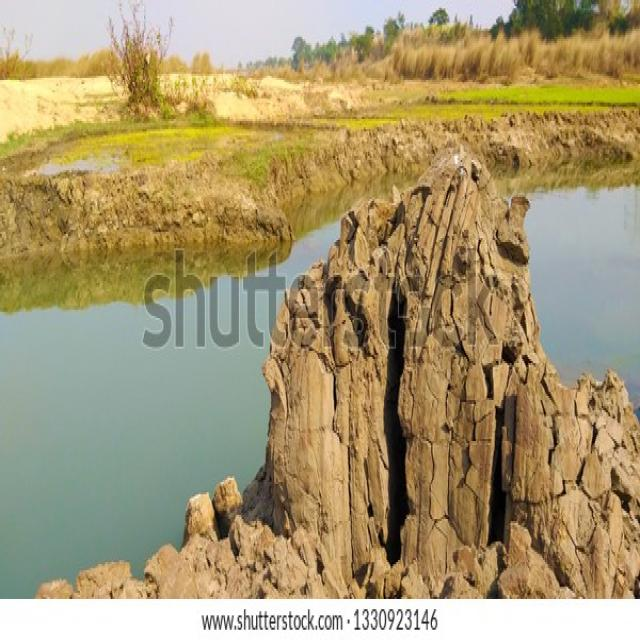Alluvial Soil: (337, 270, 505, 561)
